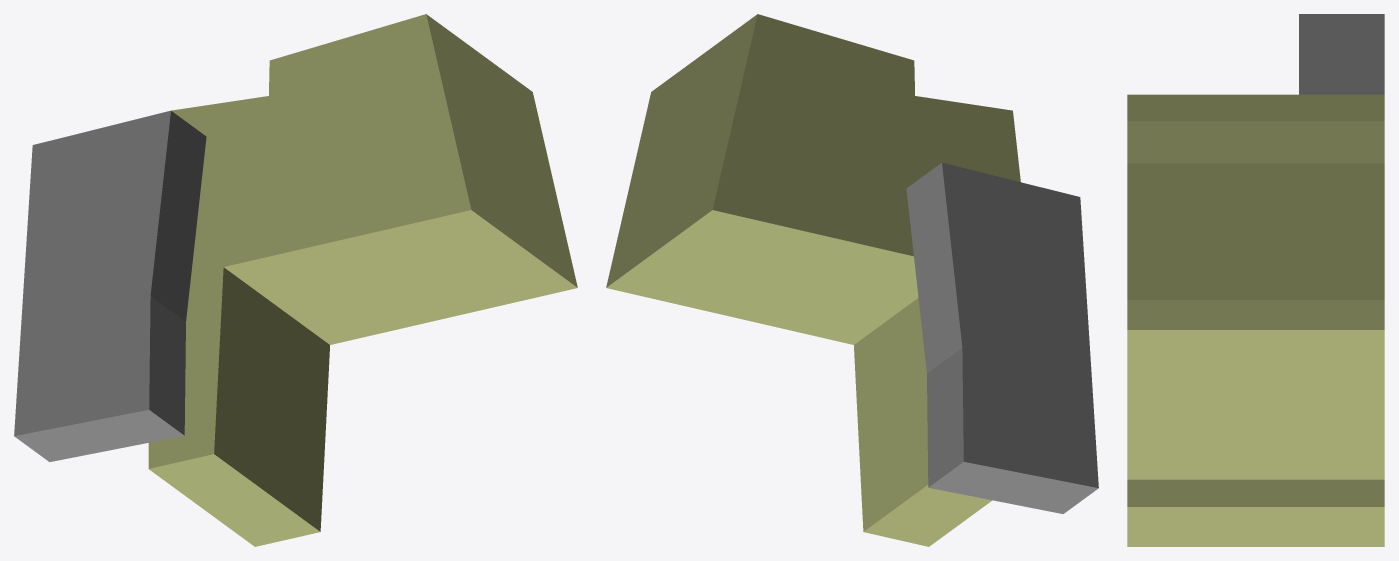
The picture shows the model from 3 angles, left to right: view 1: azimuth 30°, elevation 25°; view 2: azimuth 150°, elevation 25°; view 3: azimuth 270°, elevation 25°; orthographic projection. The views are drawn at different scales.
Visible parts, largest first — view 1: 0_3_1_0_3_3_3_0_2_2; view 2: 0_3_1_0_3_3_3_0_2_2; view 3: 0_3_1_0_3_3_3_0_2_2.
Boxes of the visible parts, x1,y1,x2,y2 form: 0_3_1_0_3_3_3_0_2_2: [14, 14, 577, 546]; 0_3_1_0_3_3_3_0_2_2: [606, 14, 1098, 546]; 0_3_1_0_3_3_3_0_2_2: [1127, 14, 1384, 546].
Size of the model in its own units: 22.31 by 18.1 by 9.
